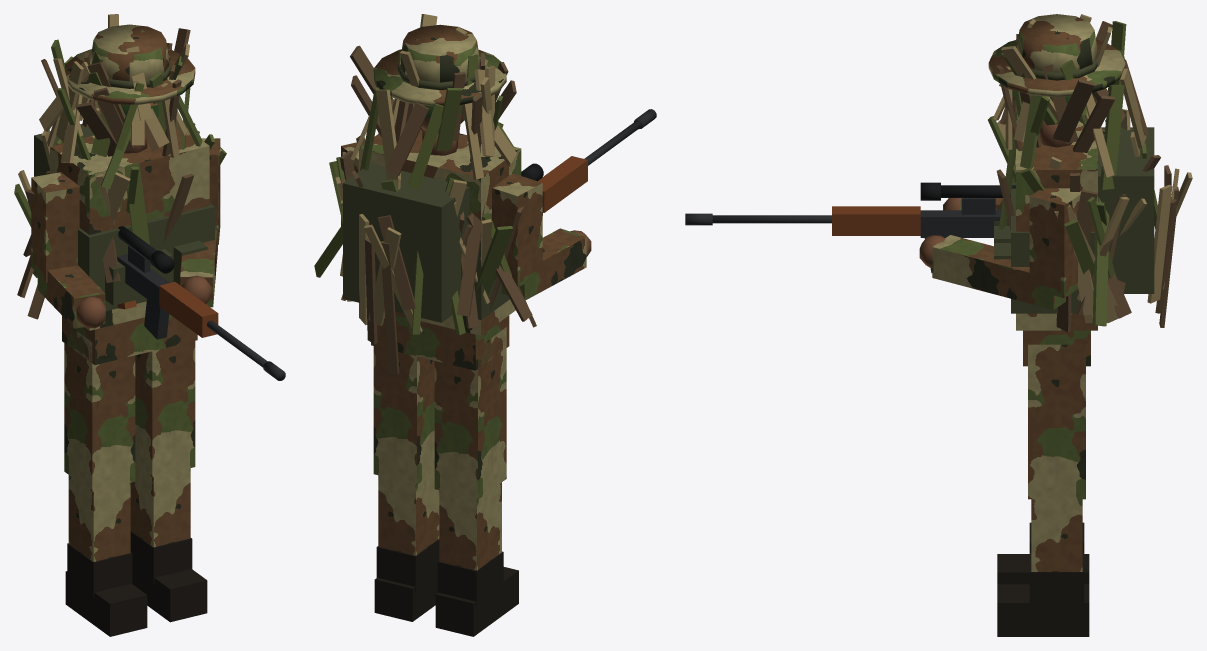
File: soldier_ghillie.fbx
3 renders of one model, left to right at view 1: azimuth 30°, elevation 25°; view 2: azimuth 150°, elevation 25°; view 3: azimuth 270°, elevation 25°, orthographic. The views are drawn at different scales.
Parts seen in each view (by area): view 1: LegR, Torso, Head, LegL, ArmR, Rifle, Pelvis, ArmL; view 2: Torso, LegR, Head, LegL, ArmR, Pelvis, Rifle; view 3: Torso, LegL, Head, ArmL, Rifle, LegR, Pelvis.
Boxes of the visible parts, box(x1,y1,x2,y2) form: LegR: box(64, 322, 147, 636); Torso: box(14, 108, 226, 330); Head: box(39, 14, 202, 189); LegL: box(130, 341, 207, 622); ArmR: box(31, 172, 105, 328); Rifle: box(117, 226, 285, 380); Pelvis: box(62, 314, 197, 364); ArmL: box(180, 138, 220, 307); Torso: box(314, 122, 536, 374); LegR: box(434, 327, 518, 636); Head: box(350, 14, 516, 189); LegL: box(373, 346, 439, 621); ArmR: box(492, 173, 591, 300); Pelvis: box(371, 315, 509, 370); Rifle: box(521, 109, 656, 215); Torso: box(988, 109, 1192, 332); LegL: box(997, 344, 1089, 636); Head: box(988, 14, 1148, 189); ArmL: box(919, 188, 1080, 309); Rifle: box(685, 182, 1015, 273); LegR: box(997, 522, 1089, 584); Pelvis: box(1023, 330, 1090, 366).
Size of the model in its own units: 0.7174 by 1.9 by 1.49.
